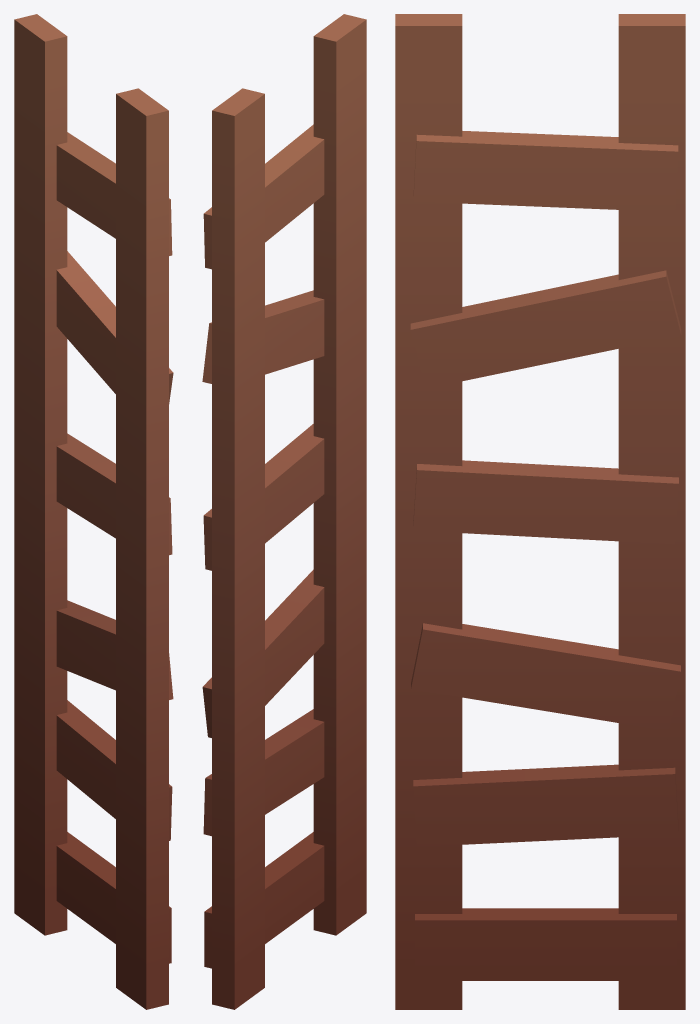
The model's file is Ladder01.fbx.
The picture shows the model from 3 angles, left to right: view 1: azimuth 30°, elevation 25°; view 2: azimuth 150°, elevation 25°; view 3: azimuth 270°, elevation 25°; orthographic projection. The views are drawn at different scales.
Visible parts, largest first — view 1: Ladder01; view 2: Ladder01; view 3: Ladder01.
Part boxes in pixels (x1,y1,x2,y2): Ladder01: (14,14,173,1009); Ladder01: (202,14,366,1009); Ladder01: (395,14,685,1009).
Size of the model in its own units: 0.0473 by 1.18 by 0.316.
Materials: 1 (1 with a texture image).
